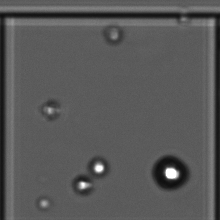Living Cell: (153, 154, 190, 190), (39, 98, 63, 120), (87, 155, 111, 177), (70, 174, 94, 196), (101, 22, 125, 44)
